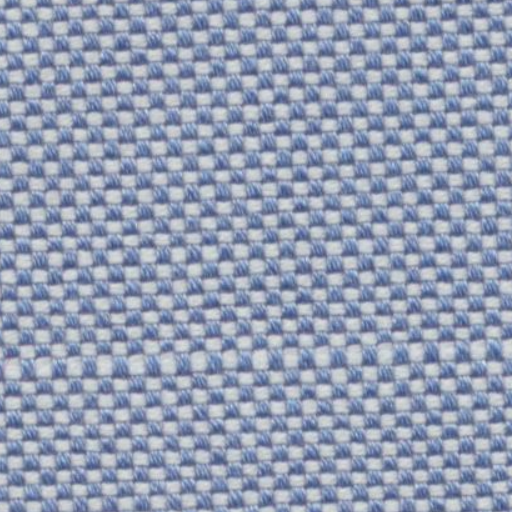TuoSha: (17, 319, 500, 395)
